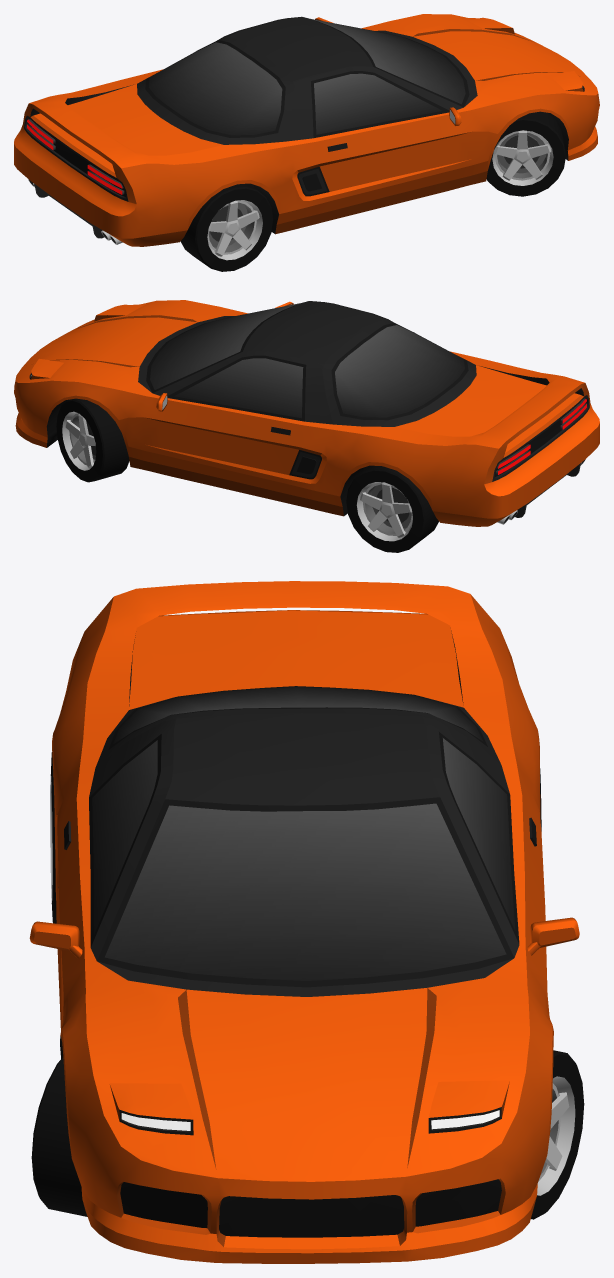
Rendered from Car_142.glb.
3 views of the same model, one above another, from view 1: azimuth 30°, elevation 25°; view 2: azimuth 150°, elevation 25°; view 3: azimuth 270°, elevation 25° (orthographic). The views are drawn at different scales.
Parts seen in each view (by area): view 1: Car_142, wheel_3_Car_142_Wheel_3R, wheel_0_Car_142_Wheel_1R; view 2: Car_142, wheel_2_Car_142_Wheel_3L, wheel_1_Car_142_Wheel_2L; view 3: Car_142, wheel_0_Car_142_Wheel_1R, wheel_1_Car_142_Wheel_2L.
Boxes of the visible parts, x1,y1,x2,y2 form: Car_142: [14, 14, 599, 246]; wheel_3_Car_142_Wheel_3R: [180, 183, 273, 271]; wheel_0_Car_142_Wheel_1R: [486, 111, 565, 196]; Car_142: [14, 300, 599, 526]; wheel_2_Car_142_Wheel_3L: [346, 465, 438, 552]; wheel_1_Car_142_Wheel_2L: [56, 398, 129, 482]; Car_142: [29, 581, 579, 1263]; wheel_0_Car_142_Wheel_1R: [31, 1057, 87, 1216]; wheel_1_Car_142_Wheel_2L: [531, 1050, 584, 1219].
Size of the model in its own units: 4.55 by 1.26 by 2.12.
Materials: 3 (3 with a texture image).
